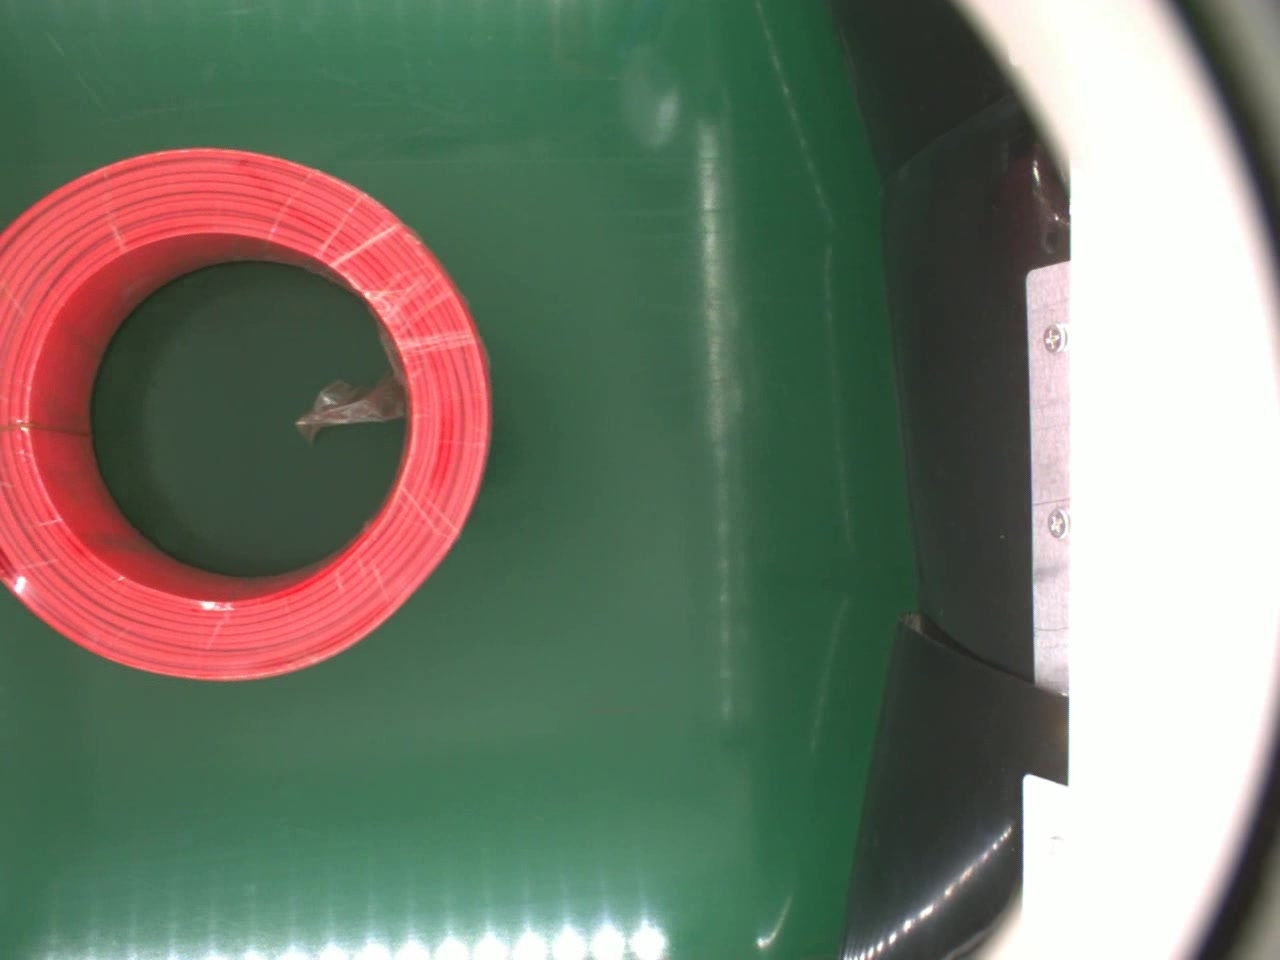red: (0, 147, 489, 679)
